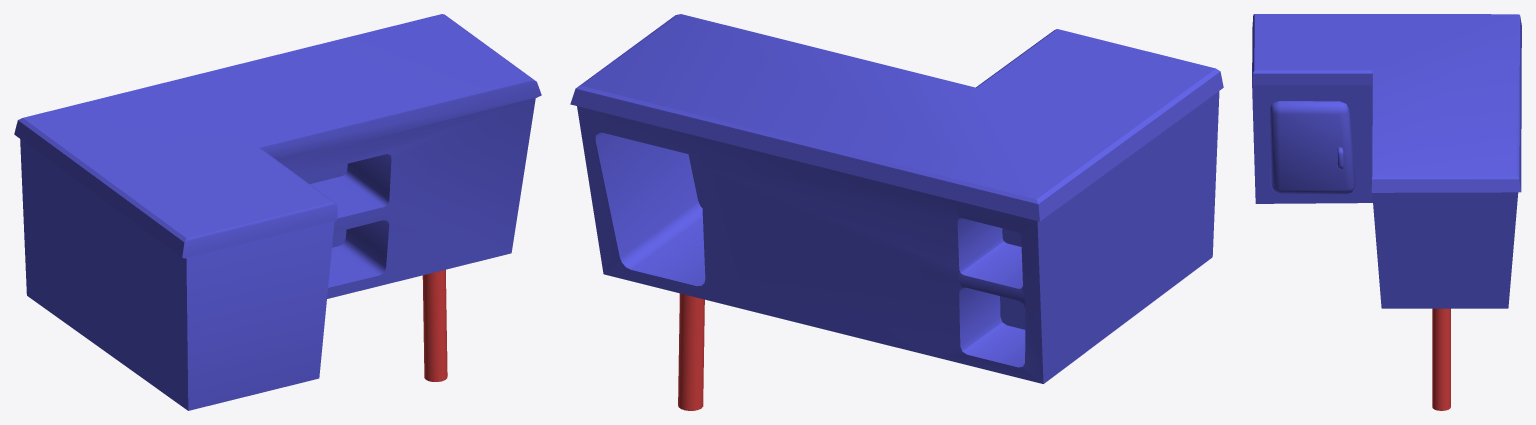
The model's file is S_Wallclosets_3.fbx.
3 renders of one model, left to right at view 1: azimuth 30°, elevation 25°; view 2: azimuth 150°, elevation 25°; view 3: azimuth 270°, elevation 25°, orthographic. The views are drawn at different scales.
Visible parts, largest first — view 1: Wallcloset_3_low, Poutre_low; view 2: Wallcloset_3_low, Poutre_low; view 3: Wallcloset_3_low, Closets_3_low, Poutre_low.
Part boxes in pixels (x1,y1,x2,y2): Wallcloset_3_low: (14, 14, 541, 410); Poutre_low: (422, 269, 447, 381); Wallcloset_3_low: (570, 14, 1223, 383); Poutre_low: (678, 293, 704, 410); Wallcloset_3_low: (1252, 14, 1521, 308); Closets_3_low: (1270, 101, 1355, 194); Poutre_low: (1432, 308, 1450, 410).
Bounding box in the file's own units: 3.19 × 2.22 × 2.15.
